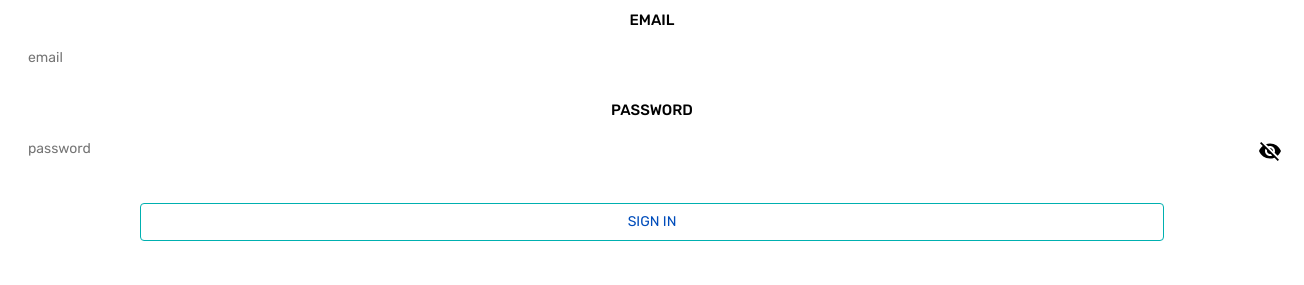
Test: SignInForm component › Test feilds validation "pattern"
This screenshot has width=1304, height=285.
Type "invalid email" into the field labelled "email" at coordinates (652, 58), box [12,39,1292,77]
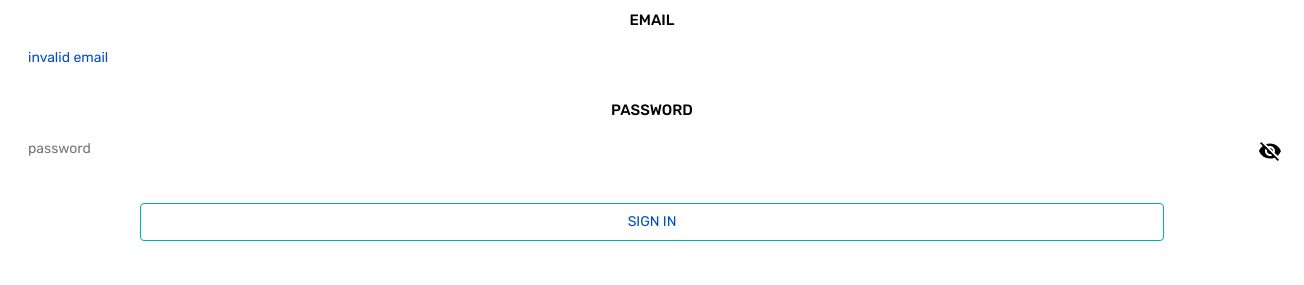
Click the button "sign in" at coordinates (652, 222), box [140,203,1164,241]
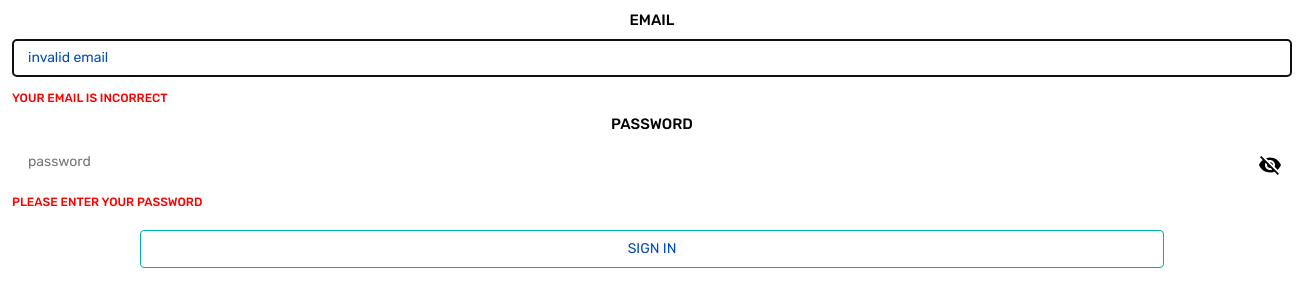
Check: the text "your email is incorrect" is shown, box [12,91,168,105]
